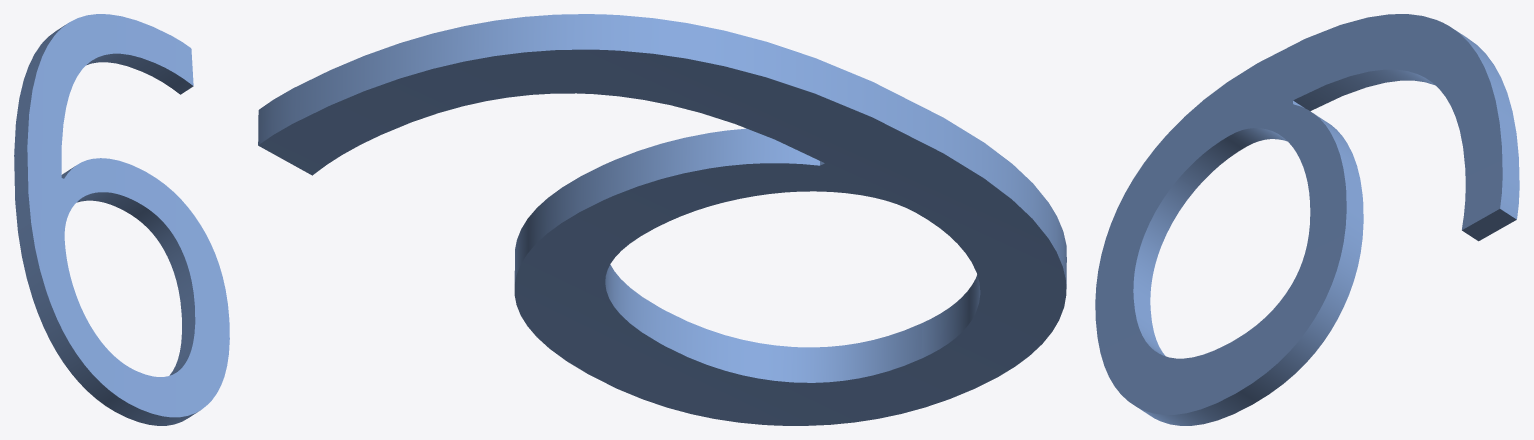
The model's file is New_Number_9.gltf.
The picture shows the model from 3 angles, left to right: view 1: azimuth 30°, elevation 25°; view 2: azimuth 150°, elevation 25°; view 3: azimuth 270°, elevation 25°; orthographic projection. The views are drawn at different scales.
Parts seen in each view (by area): view 1: Part 216; view 2: Part 216; view 3: Part 216.
Part boxes in pixels (x1,y1,x2,y2): Part 216: (14,14,229,425); Part 216: (258,14,1066,425); Part 216: (1095,14,1519,425).
Size of the model in its own units: 0.00414 by 0.00422 by 0.00424.
